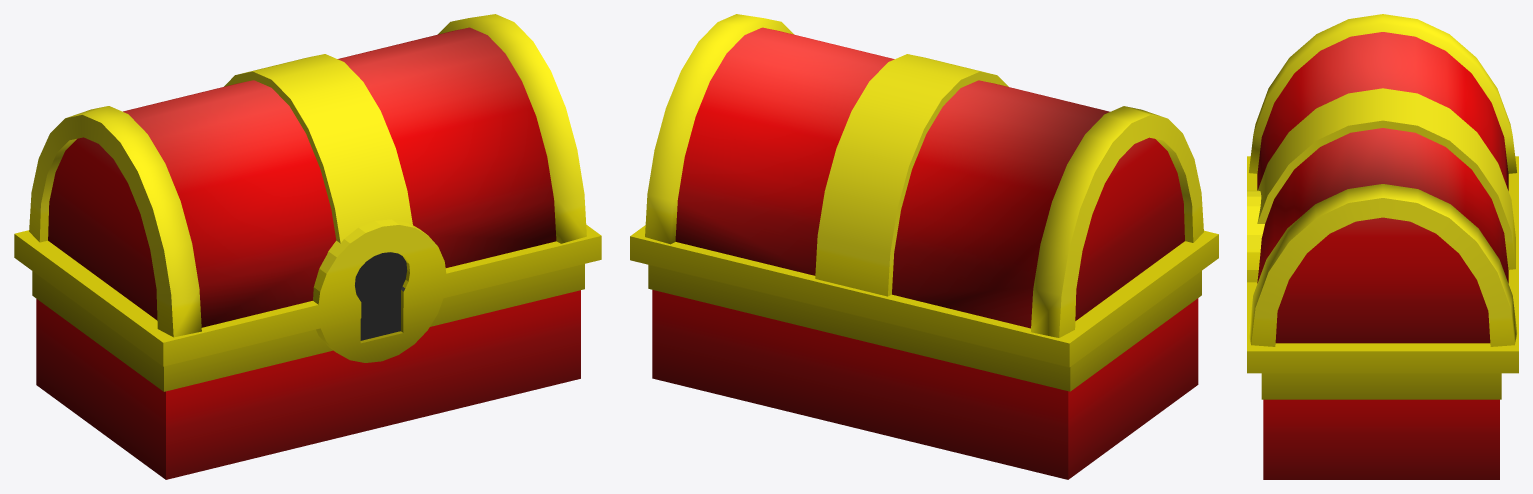
Rendered from chest.fbx.
The picture shows the model from 3 angles, left to right: view 1: azimuth 30°, elevation 25°; view 2: azimuth 150°, elevation 25°; view 3: azimuth 270°, elevation 25°; orthographic projection. The views are drawn at different scales.
Parts seen in each view (by area): view 1: chest, chest.001; view 2: chest, chest.001; view 3: chest, chest.001.
Boxes of the visible parts, x1,y1,x2,y2 form: chest: (14, 14, 601, 366); chest.001: (32, 264, 584, 479); chest: (630, 14, 1218, 367); chest.001: (648, 265, 1201, 479); chest: (1247, 14, 1518, 373); chest.001: (1261, 373, 1501, 479).
Size of the model in its own units: 147 by 99.71 by 86.57.
Materials: 1 (1 with a texture image).
